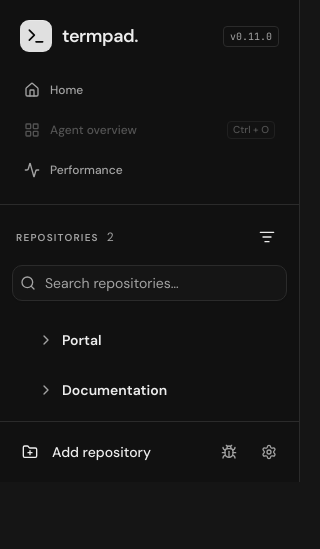
Test: Sidebar repository search › allows results to collapse without changing the original expansion state
Step 1. Type "scroll" into the field named "Search repositories and worktrees" → (150, 283), box [12, 265, 287, 301]
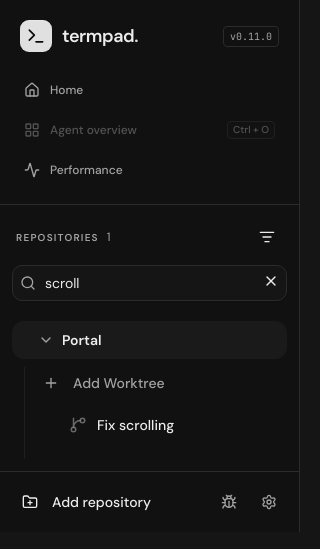
Step 2. Click the button named "Collapse Portal" → (46, 340), box [36, 330, 56, 350]
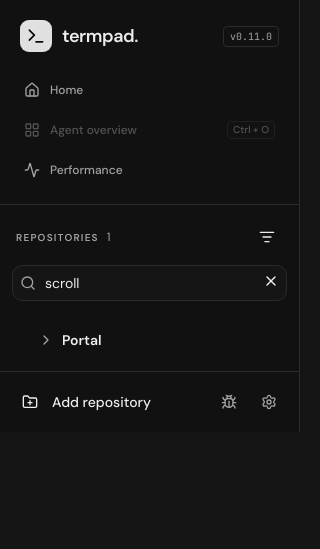
Result: the button "Fix scrolling" is gone
Step 3. Click the button named "Expand Portal" → (46, 340), box [36, 330, 56, 350]
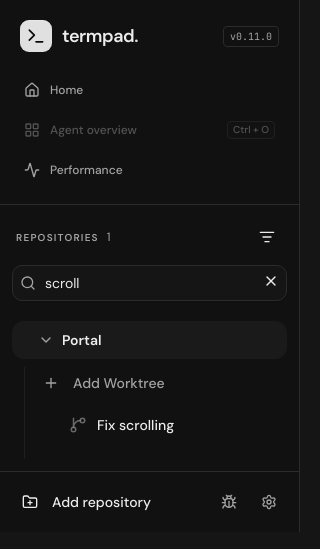
Result: the text "Fix scrolling" is shown at [97, 416, 174, 434]
Step 4. Click the button named "Clear repository search" → (271, 281), box [255, 265, 287, 297]
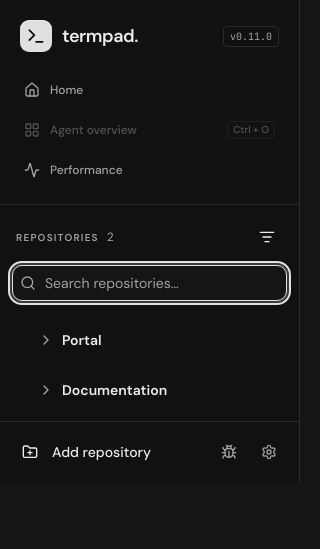
Result: the text "Documentation" is shown at [62, 381, 167, 399]
Result: the button "Fix scrolling" is gone
